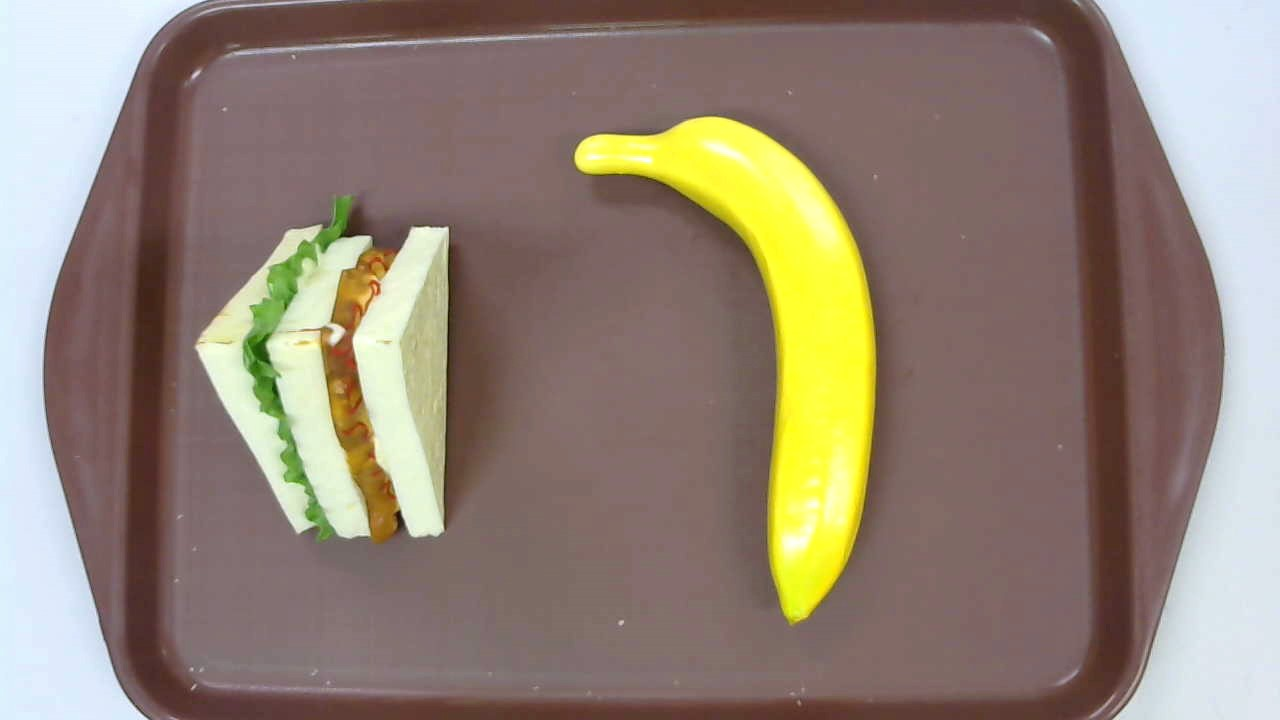banana: (575, 116, 876, 627)
sandwich: (194, 194, 449, 549)
